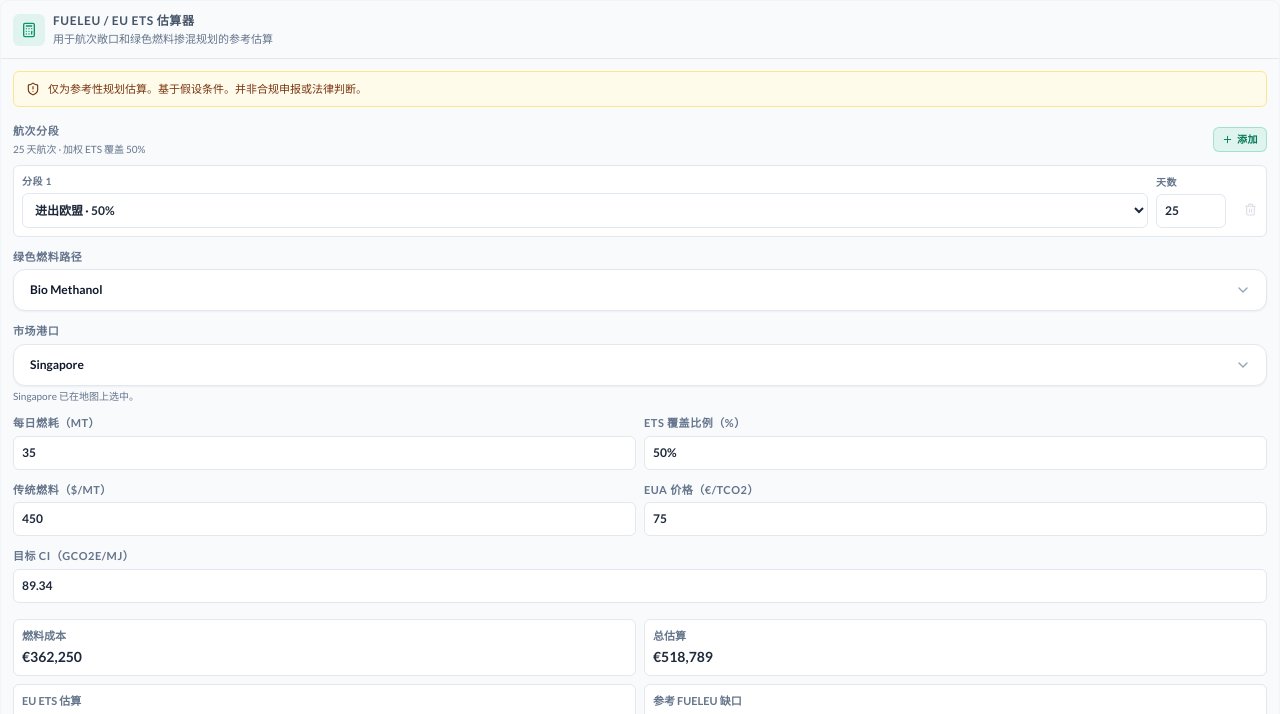
Test case: ComplianceEstimatorCard › localizes port availability and estimator validation reasons in Chinese
The width and height of the screenshot is (1280, 714).
Click the dropdown named "市场港口" at x=57, y=364, box [13,344,1267,386]
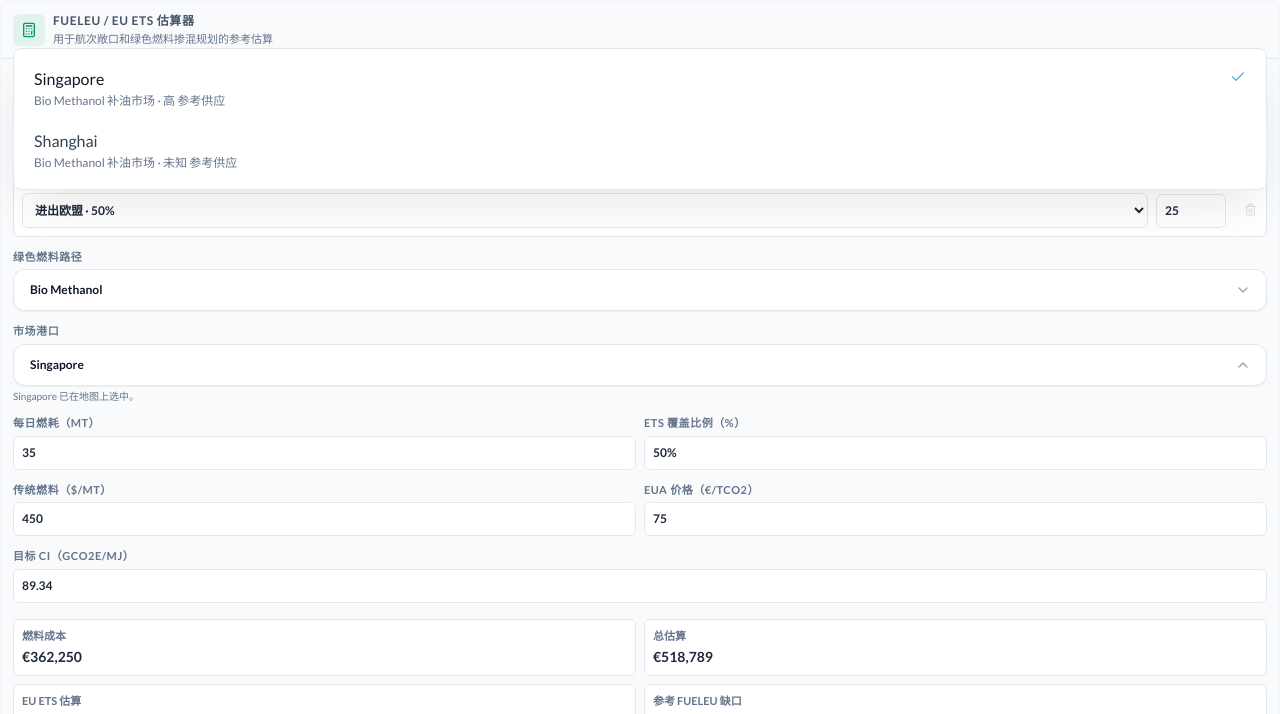
Expected: the text "Bio Methanol 补油市场 · 高 参考供应" is shown, [34,92,225,108]
Expected: the text "Bio Methanol 补油市场 · 未知 参考供应" is shown, [34,154,237,170]
Replace the text in the number field labelled "每日燃耗（MT）" with "0" at x=324, y=453, box [13,436,636,470]
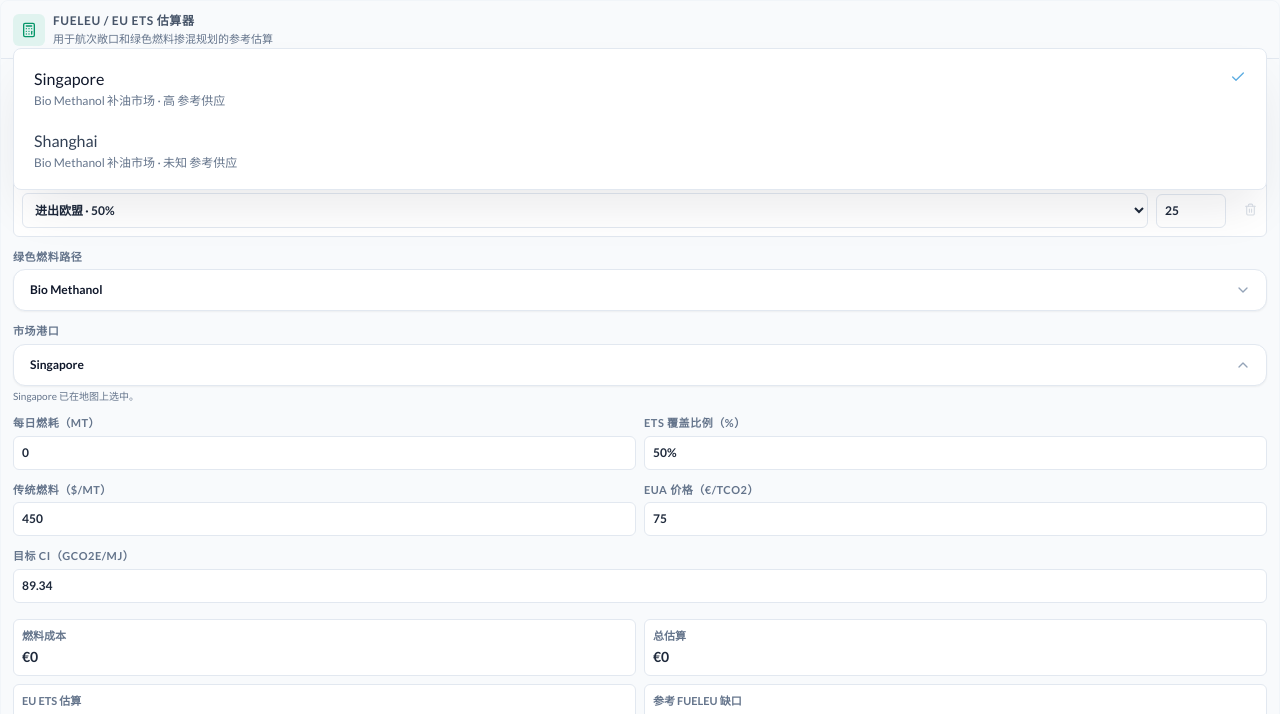
Replace the text in the number field labelled "每日燃耗（MT）" with "35" at x=324, y=453, box [13,436,636,470]
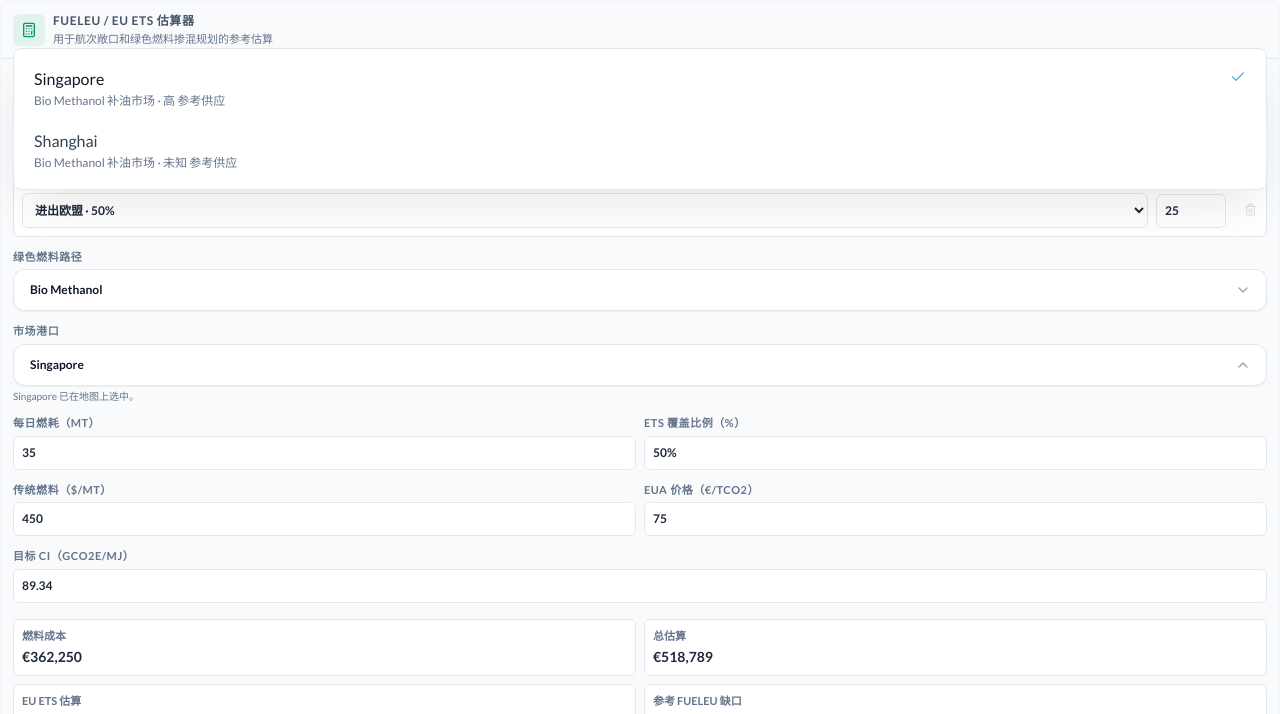
Replace the text in the number field labelled "目标 CI（gCO2e/MJ）" with "10" at x=640, y=586, box [13,569,1267,603]
(page scrolled)
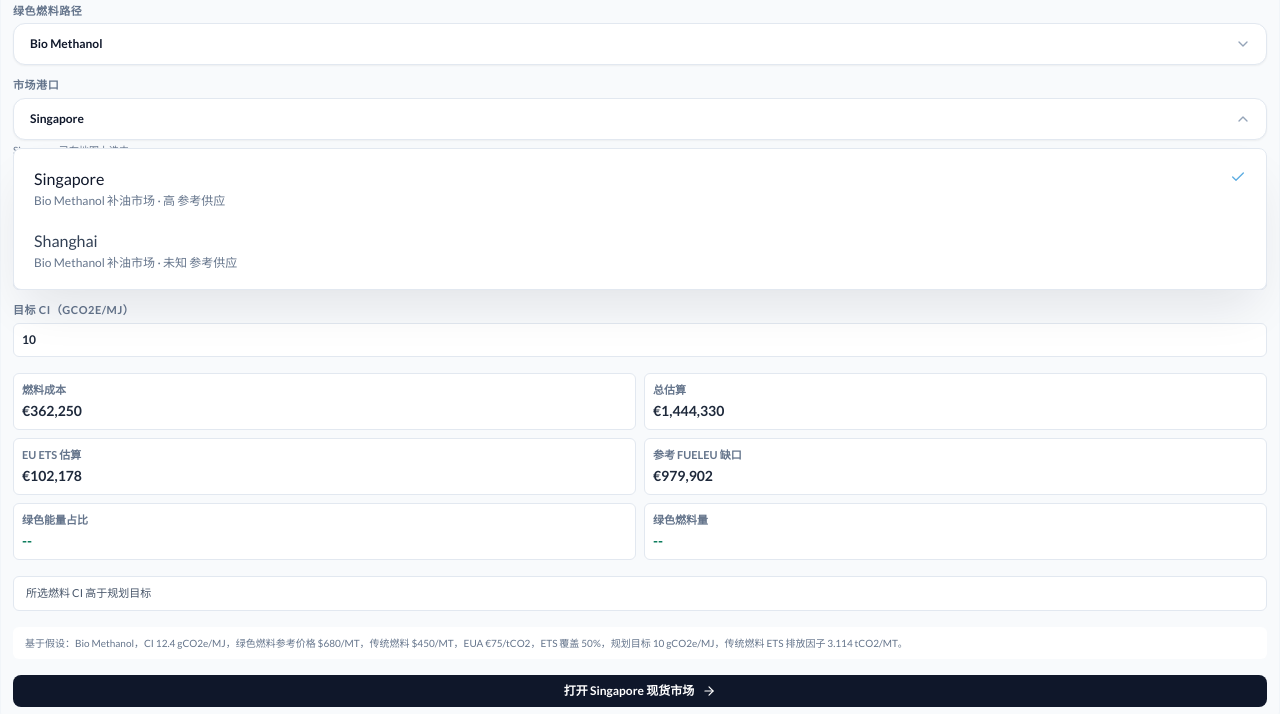
Expected: the text "所选燃料 CI 高于规划目标" is shown, [13,576,1267,611]
